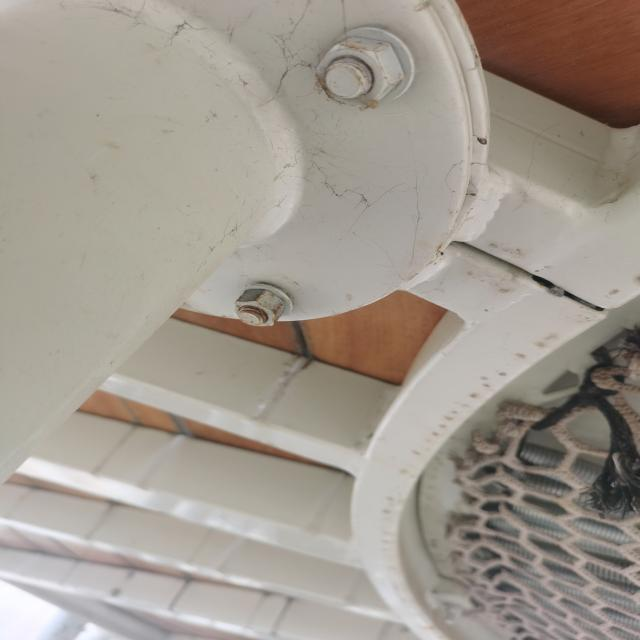bolt nut: (311, 35, 406, 109), (233, 288, 286, 329)
